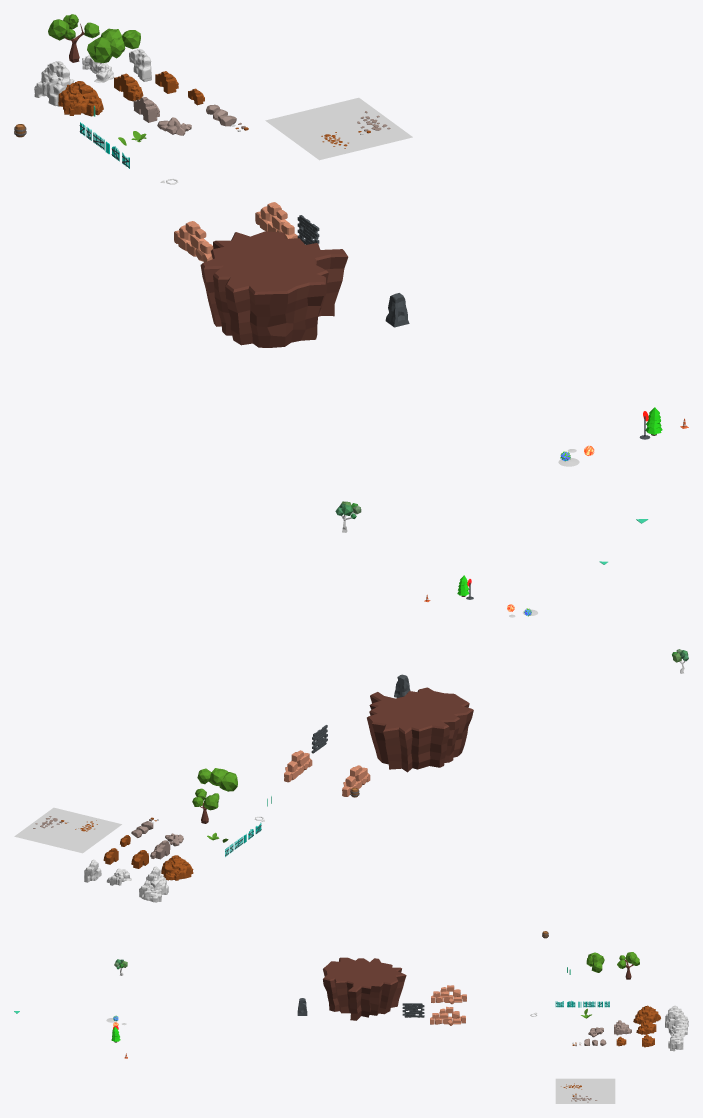
File: FireGrounds.fbx
3 views of the same model, one above another, from view 1: azimuth 30°, elevation 25°; view 2: azimuth 150°, elevation 25°; view 3: azimuth 270°, elevation 25° (orthographic). The views are drawn at different scales.
Parts seen in each view (by area): view 1: Plane, Plane.002, MixOfRoks_2.007, Cube.005, Cube.006; view 2: Plane, Plane.002, Cube.005, MixOfRoks_2.007, Cube.006; view 3: Plane, Plane.002, Cube.006, Cube.005, MixOfRoks_2.007, Cube.015.
Boxes of the visible parts, left/top/right/bottom form: Plane: left=200, top=231, right=348, bottom=347; Plane.002: left=265, top=97, right=412, bottom=160; MixOfRoks_2.007: left=58, top=81, right=103, bottom=116; Cube.005: left=34, top=61, right=74, bottom=106; Cube.006: left=255, top=202, right=297, bottom=238; Plane: left=367, top=687, right=473, bottom=772; Plane.002: left=14, top=807, right=121, bottom=853; Cube.005: left=139, top=866, right=168, bottom=902; MixOfRoks_2.007: left=161, top=855, right=193, bottom=880; Cube.006: left=284, top=750, right=312, bottom=782; Plane: left=323, top=957, right=406, bottom=1020; Plane.002: left=555, top=1078, right=615, bottom=1103; Cube.006: left=430, top=1006, right=465, bottom=1025; Cube.005: left=665, top=1005, right=688, bottom=1028; MixOfRoks_2.007: left=633, top=1005, right=660, bottom=1024; Cube.015: left=402, top=1003, right=424, bottom=1017.
Bounding box in the file's own units: 10042 × 2953 × 22633.
